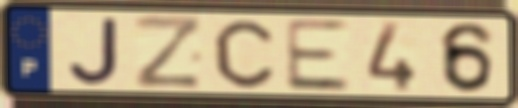4: (364, 19, 421, 94)
6: (436, 20, 495, 96)
C: (210, 17, 277, 90)
E: (281, 17, 353, 93)
J: (66, 15, 122, 87)
Z: (132, 13, 204, 91)
